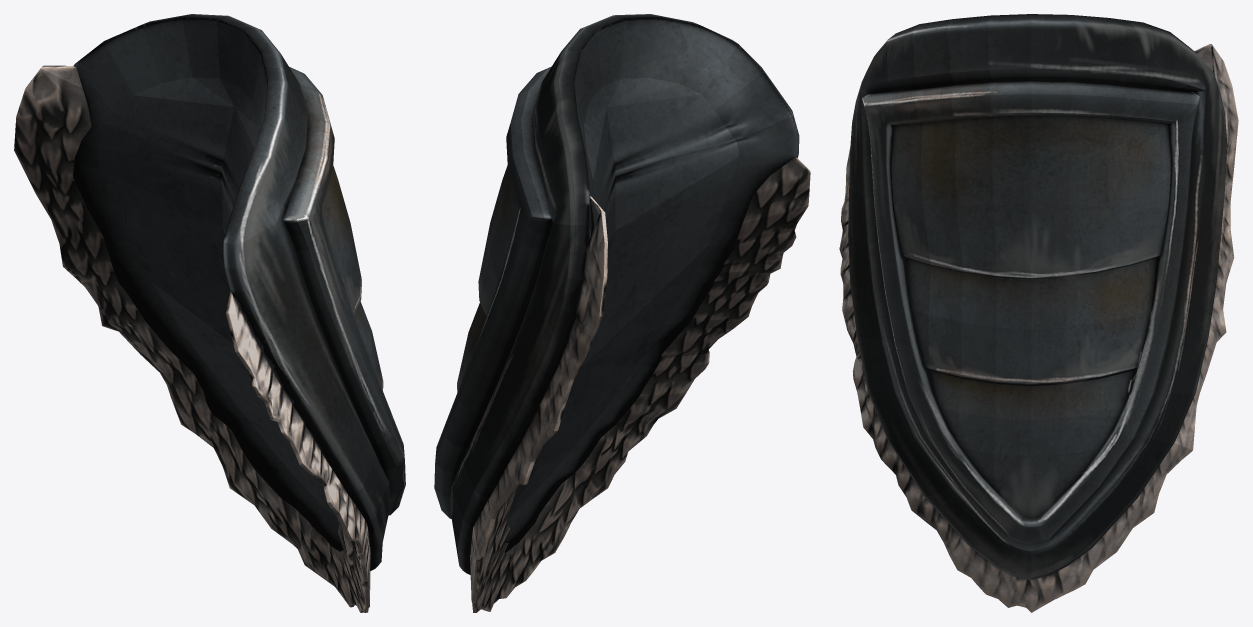
File: sm_void_human_tasset_L.gltf
3 renders of one model, left to right at view 1: azimuth 30°, elevation 25°; view 2: azimuth 150°, elevation 25°; view 3: azimuth 270°, elevation 25°, orthographic. The views are drawn at different scales.
Visible parts, largest first — view 1: sm_void_human_tasset_L; view 2: sm_void_human_tasset_L; view 3: sm_void_human_tasset_L.
Part boxes in pixels (box(x1,y1,x2,y2)): sm_void_human_tasset_L: box(14, 14, 405, 612); sm_void_human_tasset_L: box(434, 14, 810, 612); sm_void_human_tasset_L: box(839, 14, 1238, 612).
Bounding box in the file's own units: 0.2006 × 0.4327 × 0.2844.
Materials: 1 (1 with a texture image).
